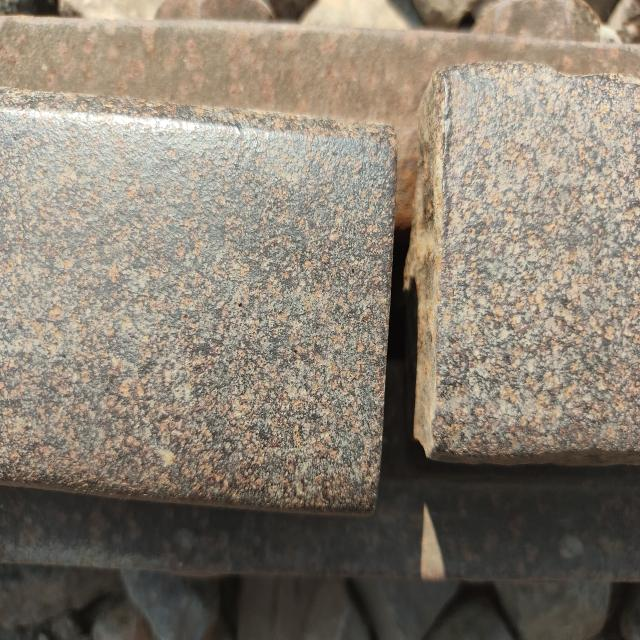defective: (262, 30, 564, 638)
